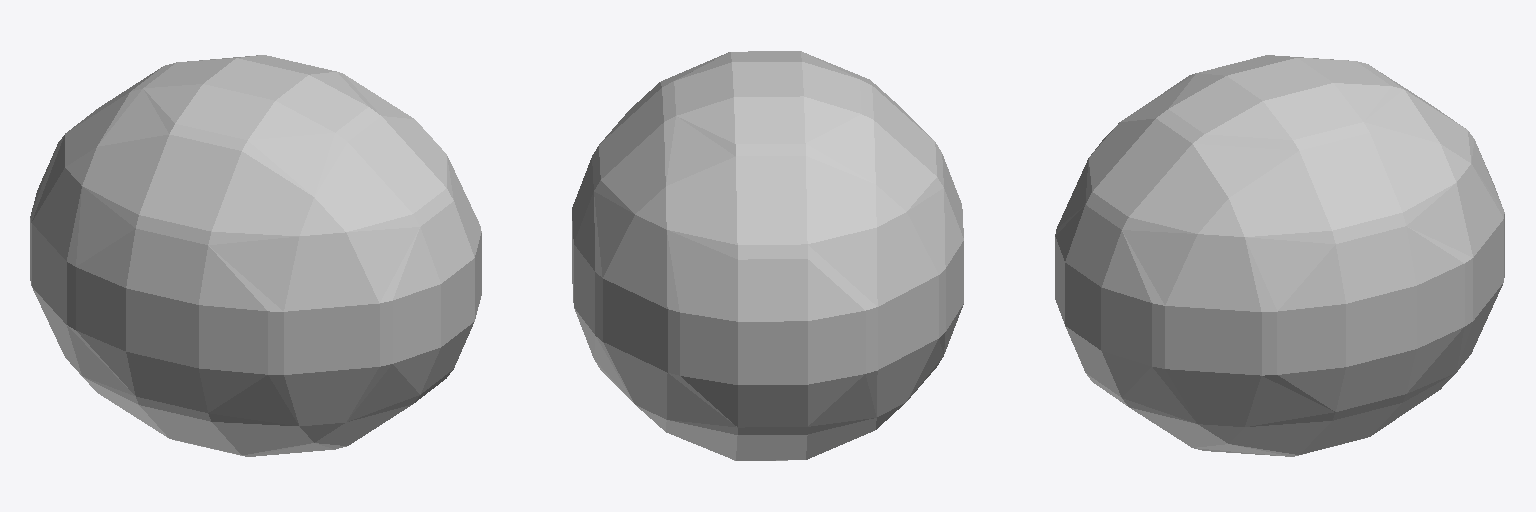
3 views of the same model, side by side, from view 1: azimuth 30°, elevation 25°; view 2: azimuth 150°, elevation 25°; view 3: azimuth 270°, elevation 25° (orthographic).
Visible parts, largest first — view 1: Farm_Plane.001; view 2: Farm_Plane.001; view 3: Farm_Plane.001.
Part boxes in pixels (x1,y1,x2,y2): Farm_Plane.001: (30,55,481,456); Farm_Plane.001: (572,51,963,460); Farm_Plane.001: (1055,55,1504,456).
Size of the model in its own units: 0.4374 by 0.4096 by 0.4722.